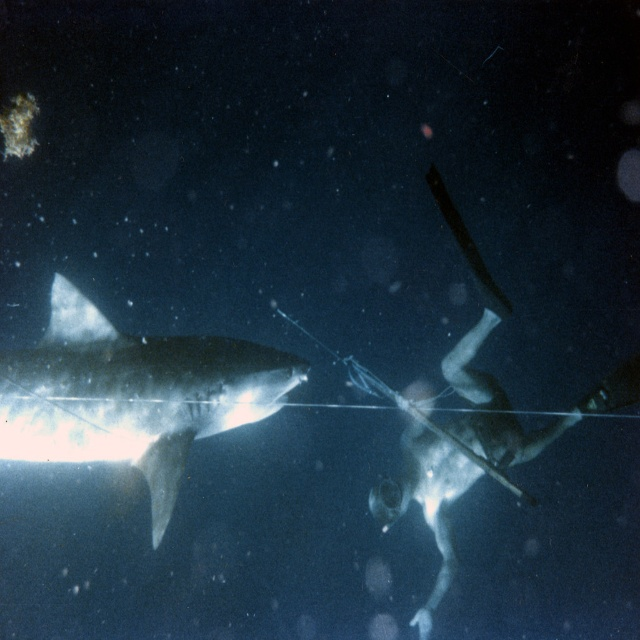Shark: (0, 268, 314, 553)
